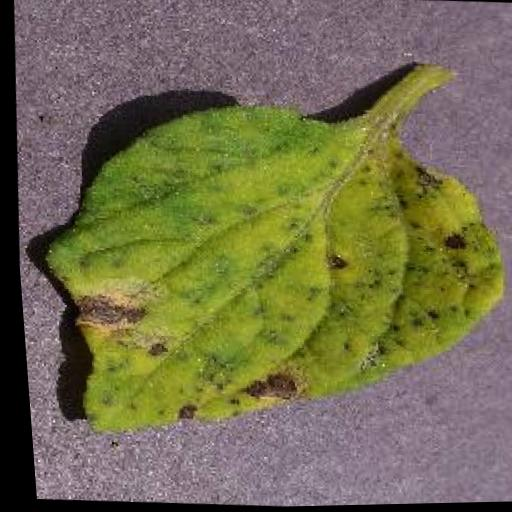Septoria: (23, 93, 509, 450)
